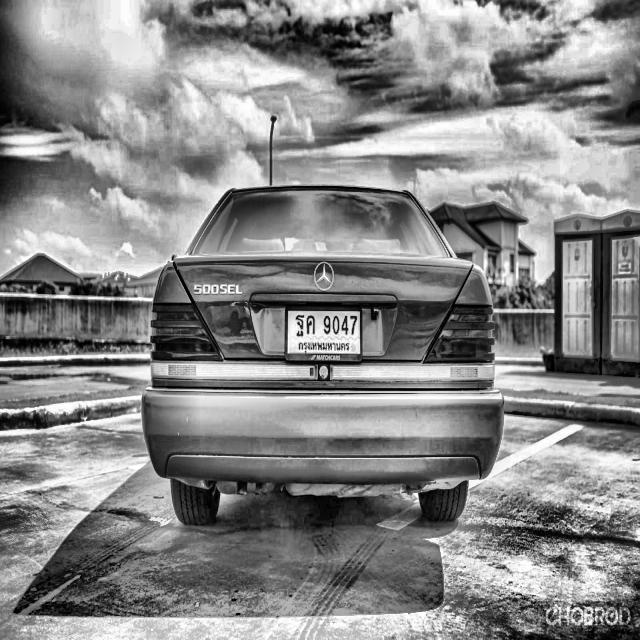license-plate: (280, 304, 364, 367)
